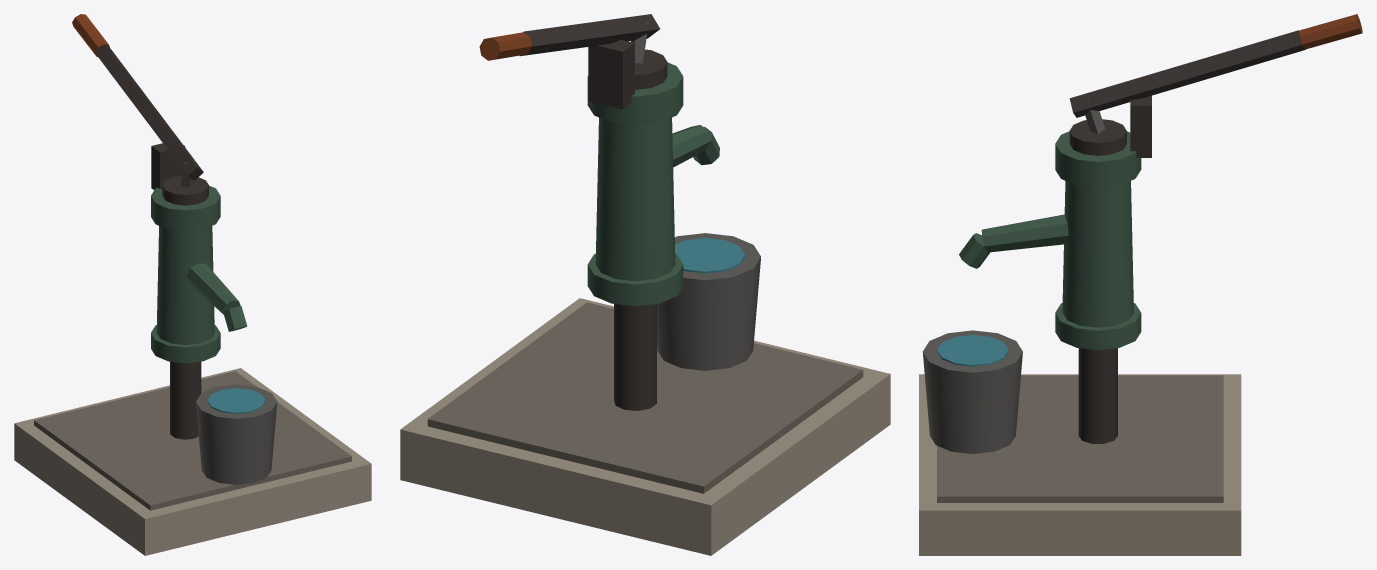
File: pump.glb
3 renders of one model, left to right at view 1: azimuth 30°, elevation 25°; view 2: azimuth 150°, elevation 25°; view 3: azimuth 270°, elevation 25°, orthographic. The views are drawn at different scales.
Parts seen in each view (by area): view 1: pump; view 2: pump; view 3: pump.
Part boxes in pixels (x1,y1,x2,y2): pump: [14, 14, 371, 555]; pump: [400, 14, 890, 555]; pump: [919, 14, 1362, 555].
Bounding box in the file's own units: 0.9 × 1.46 × 1.24.
